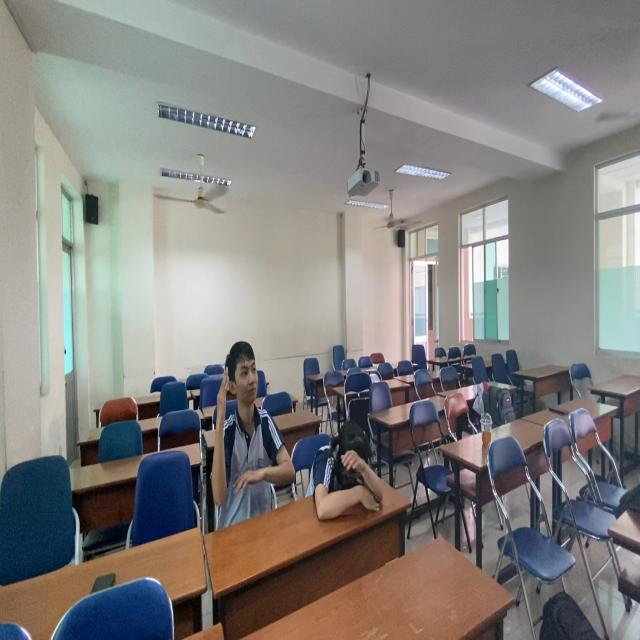raise_hand: (212, 336, 298, 524)
sleep: (306, 416, 390, 525)
